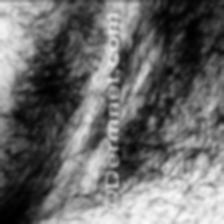Unclassified: (120, 28, 158, 191), (68, 31, 102, 213)
